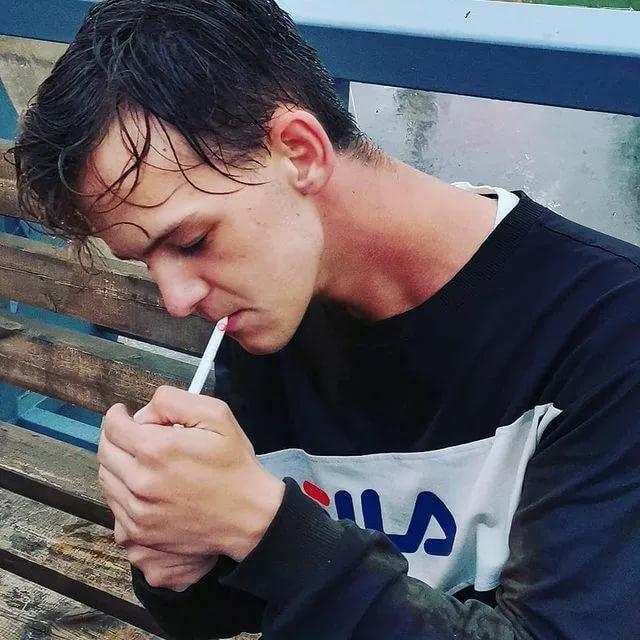cigarette: (187, 311, 235, 397)
